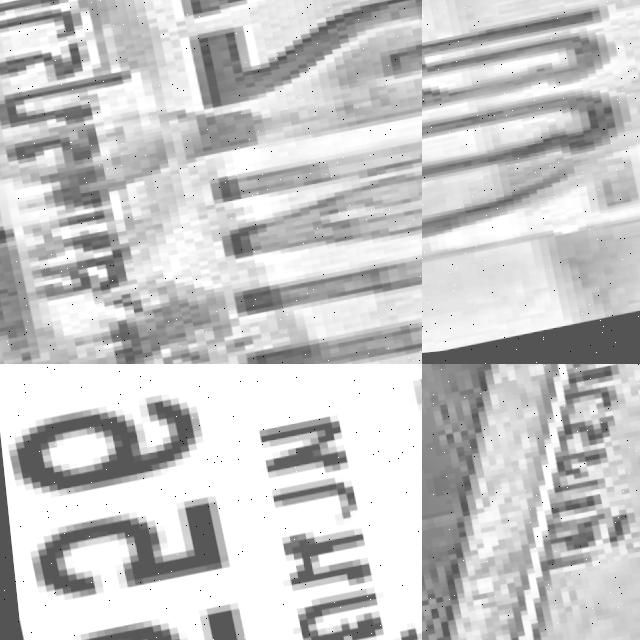license-plate: (0, 0, 422, 364), (0, 364, 422, 640), (422, 0, 640, 364), (422, 364, 640, 640)
